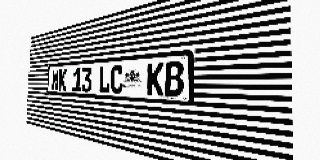1: (72, 68, 82, 92)
3: (81, 67, 92, 92)
B: (164, 61, 184, 97)
C: (110, 65, 123, 94)
K: (147, 62, 164, 96), (58, 69, 67, 91)
L: (98, 66, 111, 93)
M: (51, 69, 59, 91)
